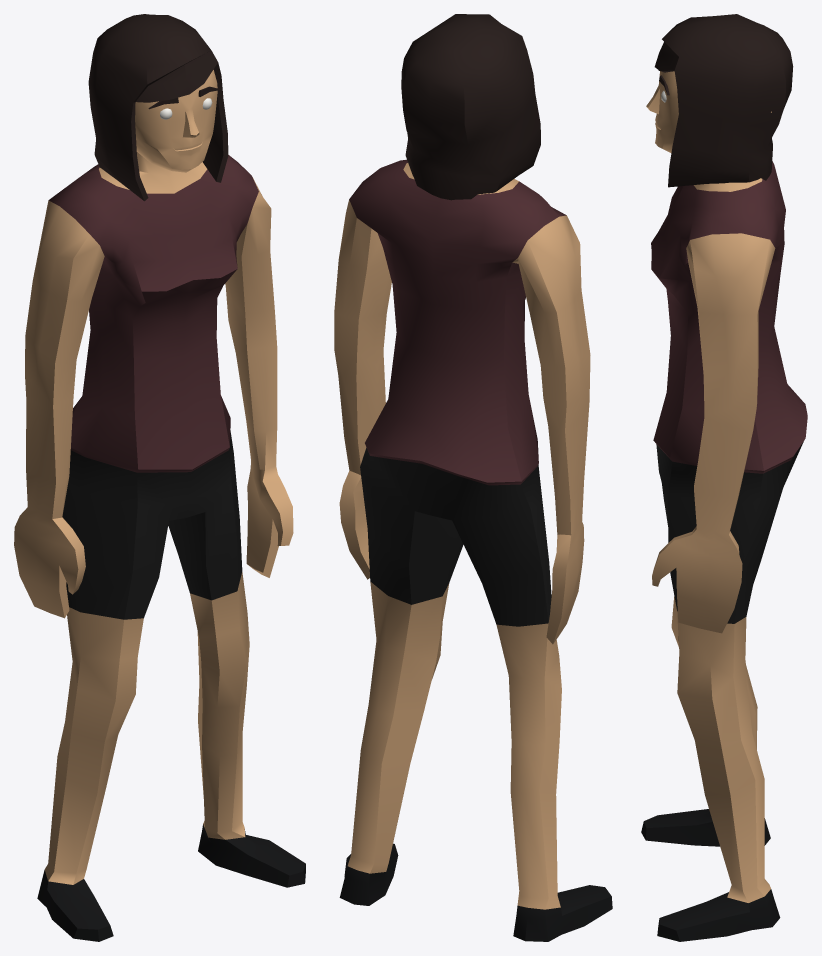
The model's file is female_tanktop.glb.
The picture shows the model from 3 angles, left to right: view 1: azimuth 30°, elevation 25°; view 2: azimuth 150°, elevation 25°; view 3: azimuth 270°, elevation 25°; orthographic projection. The views are drawn at different scales.
Parts seen in each view (by area): view 1: FemaleTanktop; view 2: FemaleTanktop; view 3: FemaleTanktop.
Part boxes in pixels (bbox=[...]): FemaleTanktop: bbox=[14, 14, 305, 941]; FemaleTanktop: bbox=[334, 14, 612, 941]; FemaleTanktop: bbox=[641, 14, 807, 941].
Size of the model in its own units: 0.5409 by 1.8 by 0.3162.
